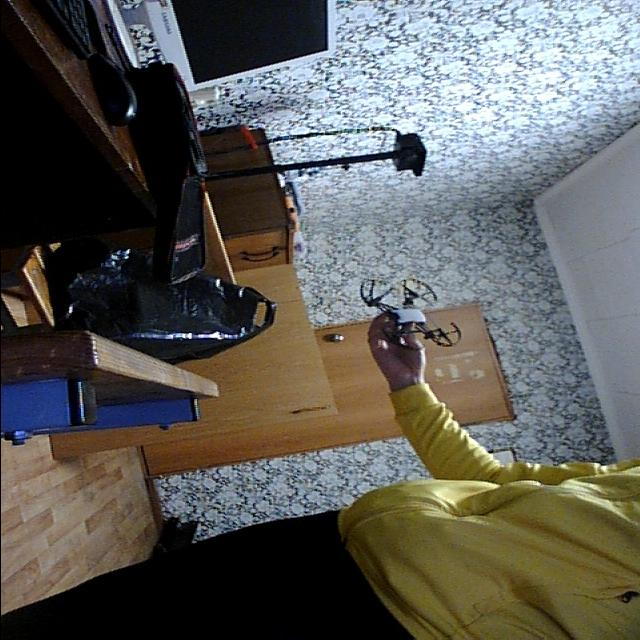drone: (352, 274, 464, 360)
